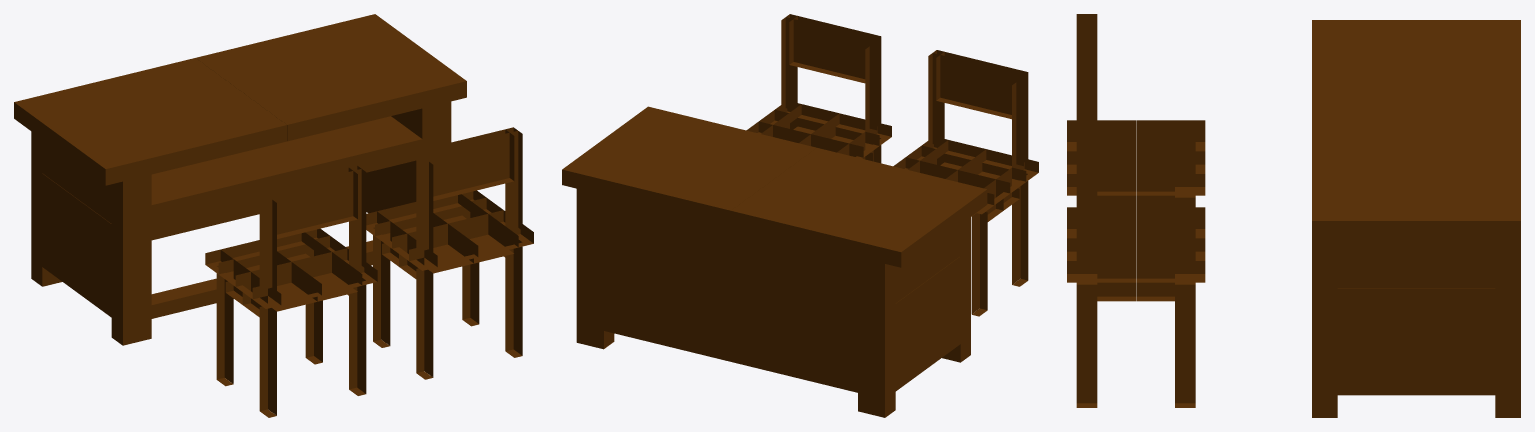
The model's file is Meja dan Kursi Murid.fbx.
The picture shows the model from 3 angles, left to right: view 1: azimuth 30°, elevation 25°; view 2: azimuth 150°, elevation 25°; view 3: azimuth 270°, elevation 25°; orthographic projection. The views are drawn at different scales.
Visible parts, largest first — view 1: Kursi.001; view 2: Kursi.001; view 3: Kursi.001.
Boxes of the visible parts, box(x1,y1,x2,y2) form: Kursi.001: box(14, 14, 533, 417); Kursi.001: box(562, 14, 1038, 417); Kursi.001: box(1067, 14, 1520, 417).
Size of the model in its own units: 666 by 391 by 636.
1 material, 1 textured.
